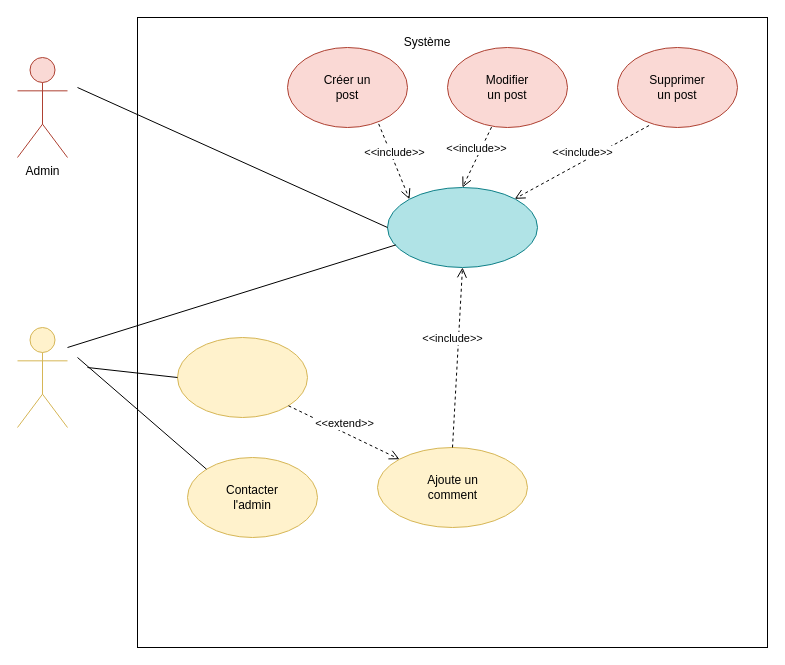
The diagram is 785 pixels wide and 665 high, and some of its shapes have lost their labels. Here are the shapes that lost their labels. From the top down, the centre of each, then its label:
point 462,227: S'authentifier
point 42,377: User
point 242,377: Lire un post
